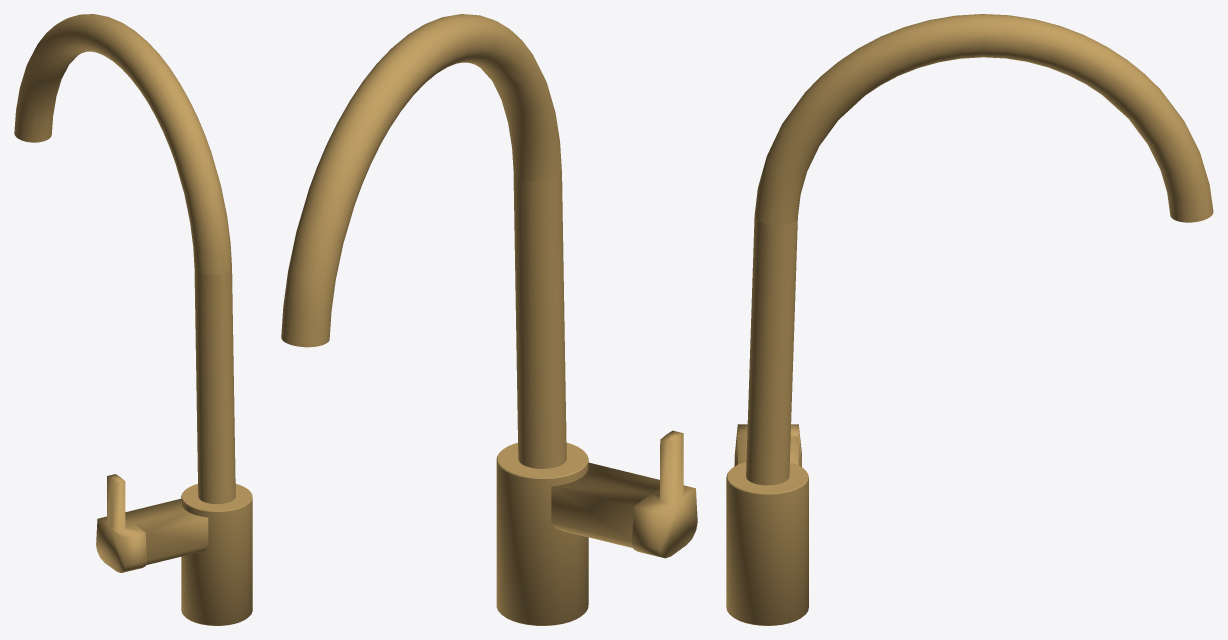
Rendered from faucet_AlignBrushedGold.glb.
3 renders of one model, left to right at view 1: azimuth 30°, elevation 25°; view 2: azimuth 150°, elevation 25°; view 3: azimuth 270°, elevation 25°, orthographic. The views are drawn at different scales.
Parts seen in each view (by area): view 1: Align Brushed Gold; view 2: Align Brushed Gold; view 3: Align Brushed Gold.
Part boxes in pixels (x1,y1,x2,y2): Align Brushed Gold: (14, 14, 252, 625); Align Brushed Gold: (281, 14, 697, 625); Align Brushed Gold: (726, 14, 1213, 625).
Size of the model in its own units: 0.1039 by 0.373 by 0.2775.
